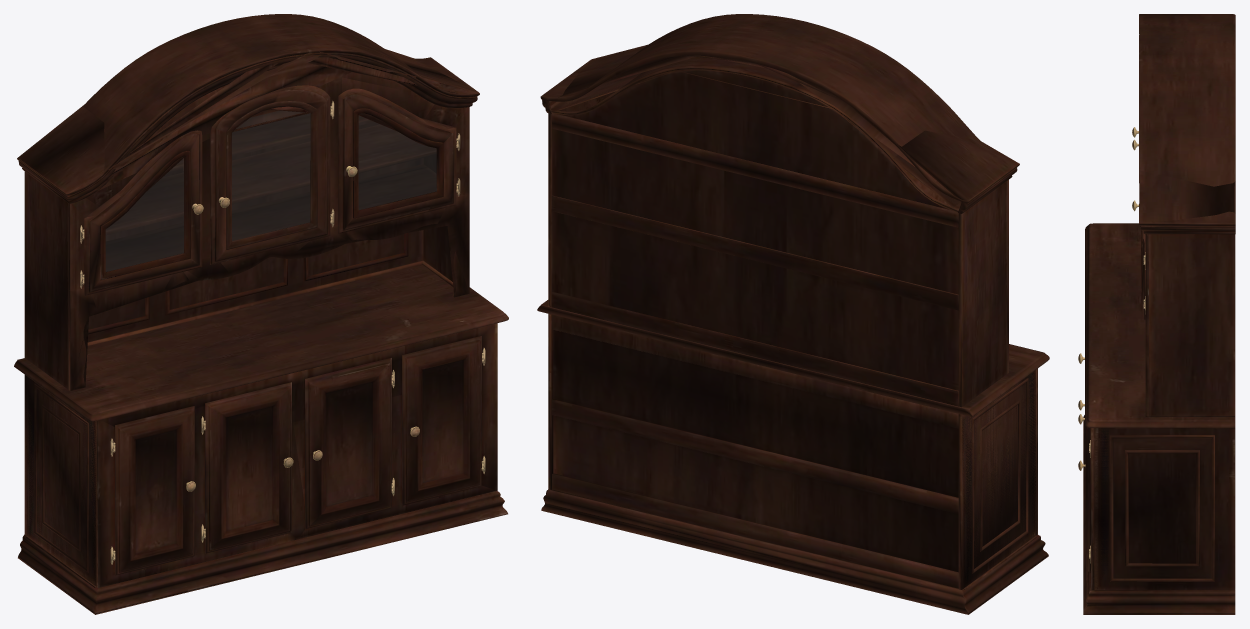
Rendered from vintage_cabinet_01.glb.
The picture shows the model from 3 angles, left to right: view 1: azimuth 30°, elevation 25°; view 2: azimuth 150°, elevation 25°; view 3: azimuth 270°, elevation 25°; orthographic projection. The views are drawn at different scales.
Parts seen in each view (by area): view 1: vintage_cabinet_01_body, vintage_cabinet_01_body_lo, vintage_cabinet_01_door_01, vintage_cabinet_01_door_01_lo; view 2: vintage_cabinet_01_body, vintage_cabinet_01_body_lo; view 3: vintage_cabinet_01_body, vintage_cabinet_01_body_lo.
Part boxes in pixels (<box>): vintage_cabinet_01_body: <box>14,14,508,614</box>; vintage_cabinet_01_body_lo: <box>18,49,497,588</box>; vintage_cabinet_01_door_01: <box>106,111,436,271</box>; vintage_cabinet_01_door_01_lo: <box>106,111,436,271</box>; vintage_cabinet_01_body: <box>537,14,1049,614</box>; vintage_cabinet_01_body_lo: <box>548,44,1037,589</box>; vintage_cabinet_01_body: <box>1078,14,1235,614</box>; vintage_cabinet_01_body_lo: <box>1081,170,1235,590</box>.
Size of the model in its own units: 2.02 by 2.24 by 0.6699.
Materials: 3 (2 with a texture image).
